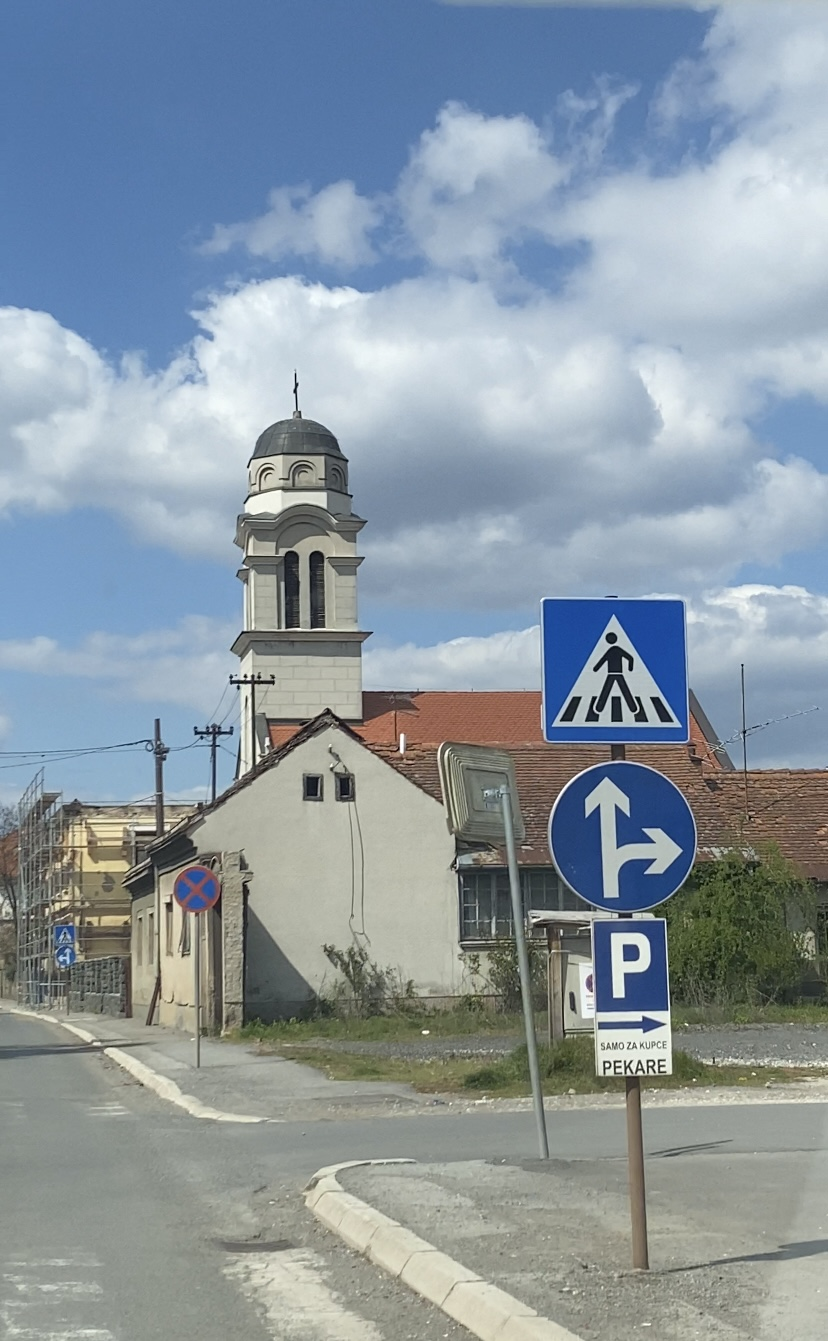Pješački prijelaz: (542, 598, 689, 741), (55, 925, 75, 945)
